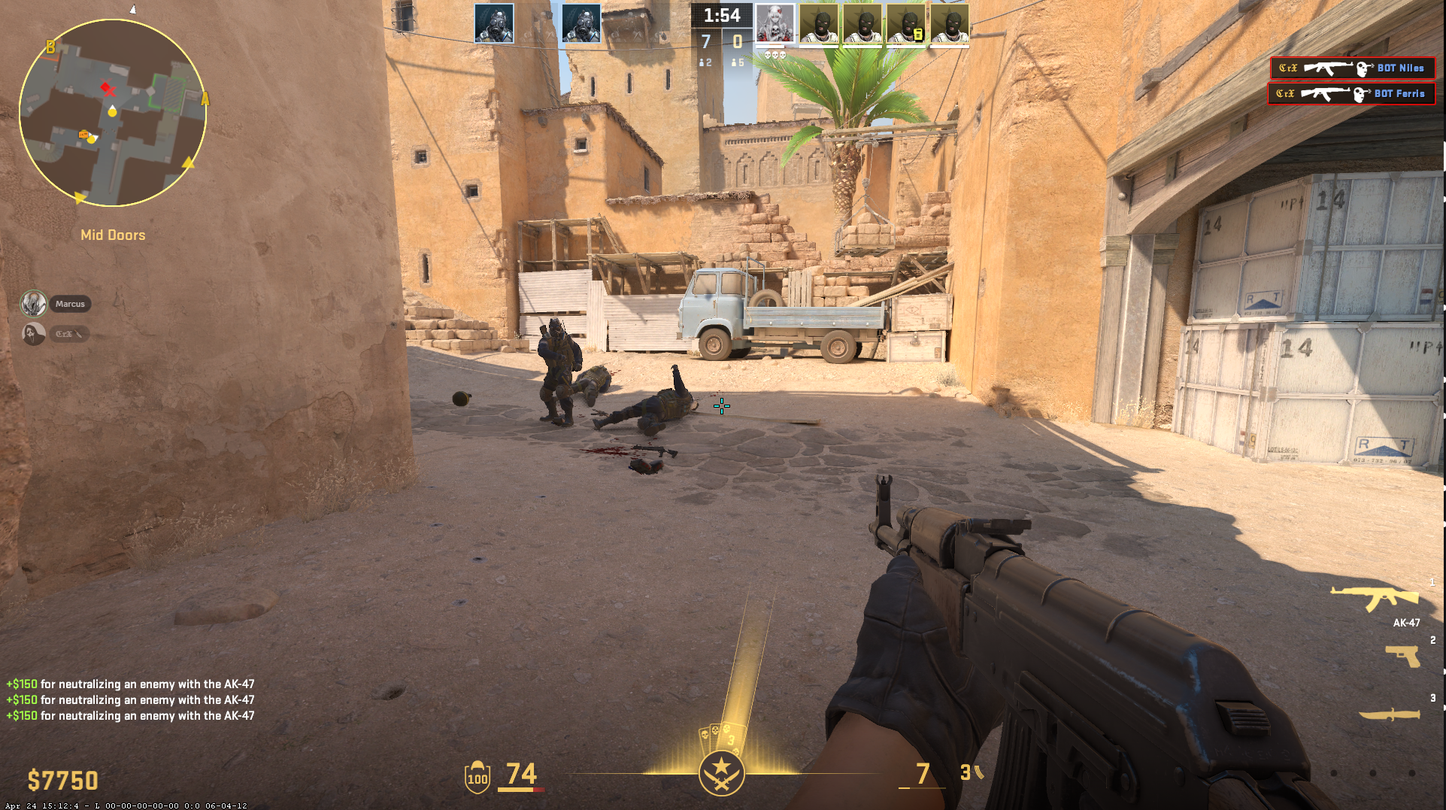CT: (538, 318, 581, 426)
